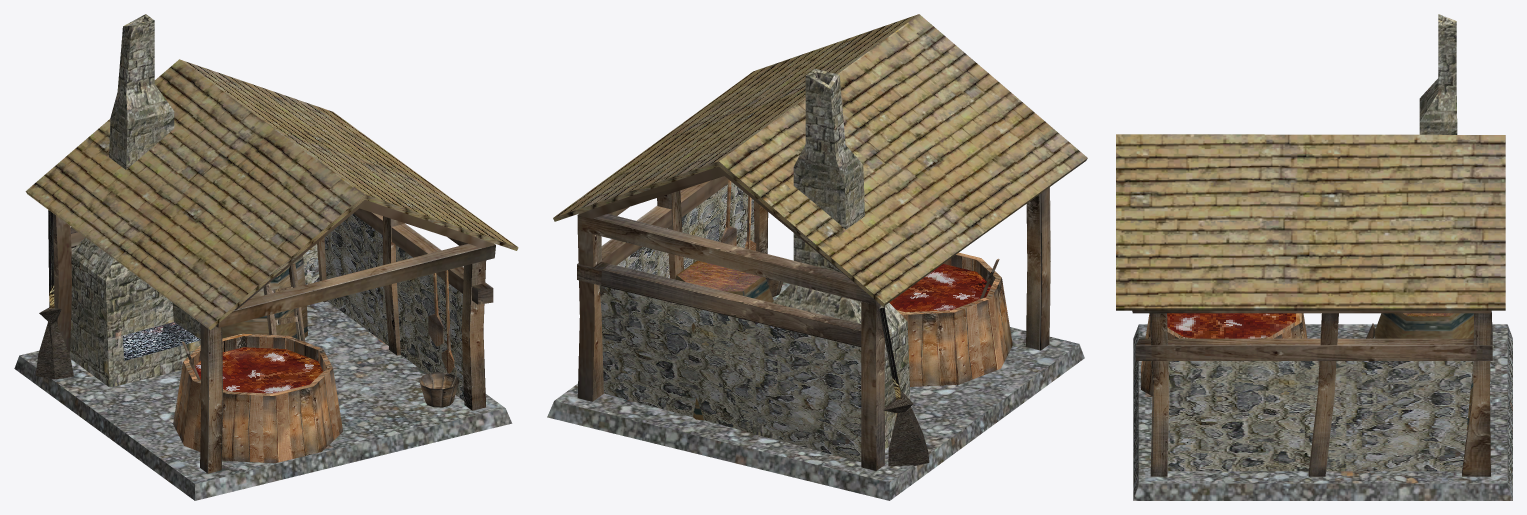
The model's file is building_brewery.glb.
3 views of the same model, side by side, from view 1: azimuth 30°, elevation 25°; view 2: azimuth 150°, elevation 25°; view 3: azimuth 270°, elevation 25° (orthographic). The views are drawn at different scales.
Parts seen in each view (by area): view 1: building_brewery; view 2: building_brewery; view 3: building_brewery.
Part boxes in pixels (left/top/right/bottom): building_brewery: left=14, top=14, right=518, bottom=500; building_brewery: left=547, top=14, right=1087, bottom=500; building_brewery: left=1116, top=14, right=1512, bottom=500.
Size of the model in its own units: 4.7 by 4.82 by 4.73.
Materials: 10 (10 with a texture image).
